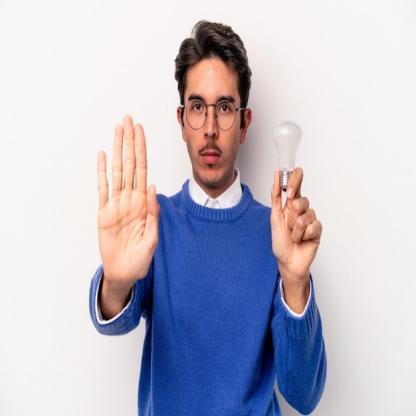stop: (93, 112, 164, 284)
